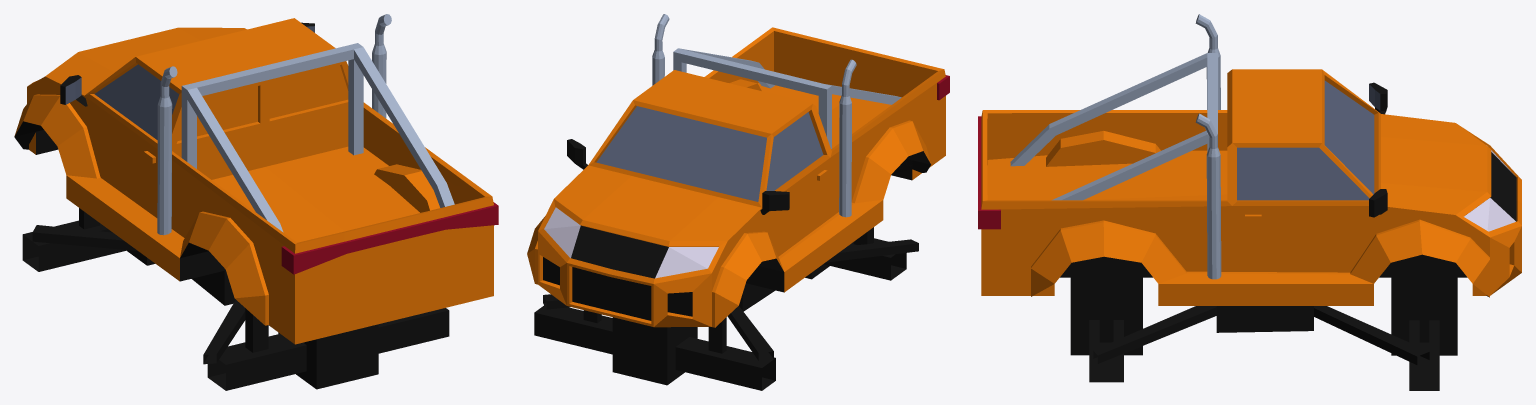
The model's file is Car2.glb.
The picture shows the model from 3 angles, left to right: view 1: azimuth 30°, elevation 25°; view 2: azimuth 150°, elevation 25°; view 3: azimuth 270°, elevation 25°; orthographic projection. The views are drawn at different scales.
Parts seen in each view (by area): view 1: Monster Truck; view 2: Monster Truck; view 3: Monster Truck.
Boxes of the visible parts, x1,y1,x2,y2 form: Monster Truck: (14,14,498,390); Monster Truck: (527,14,949,390); Monster Truck: (978,14,1521,390).
Bounding box in the file's own units: 2.93 × 3.09 × 5.49.
